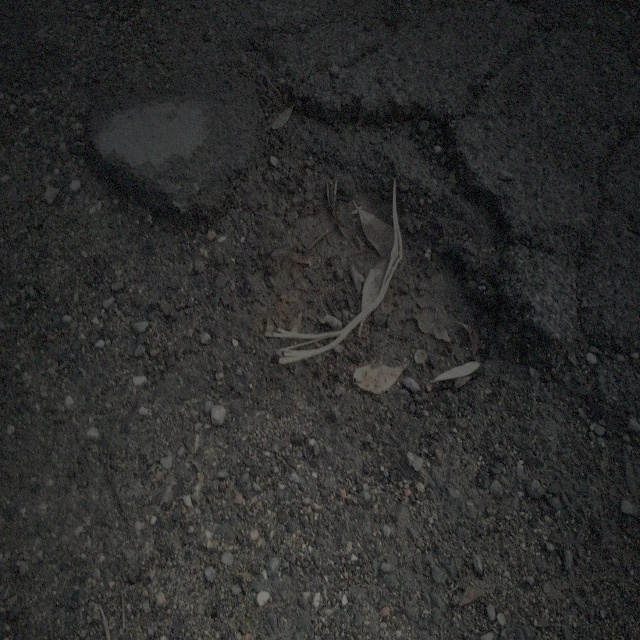pothole: (218, 75, 514, 416)
